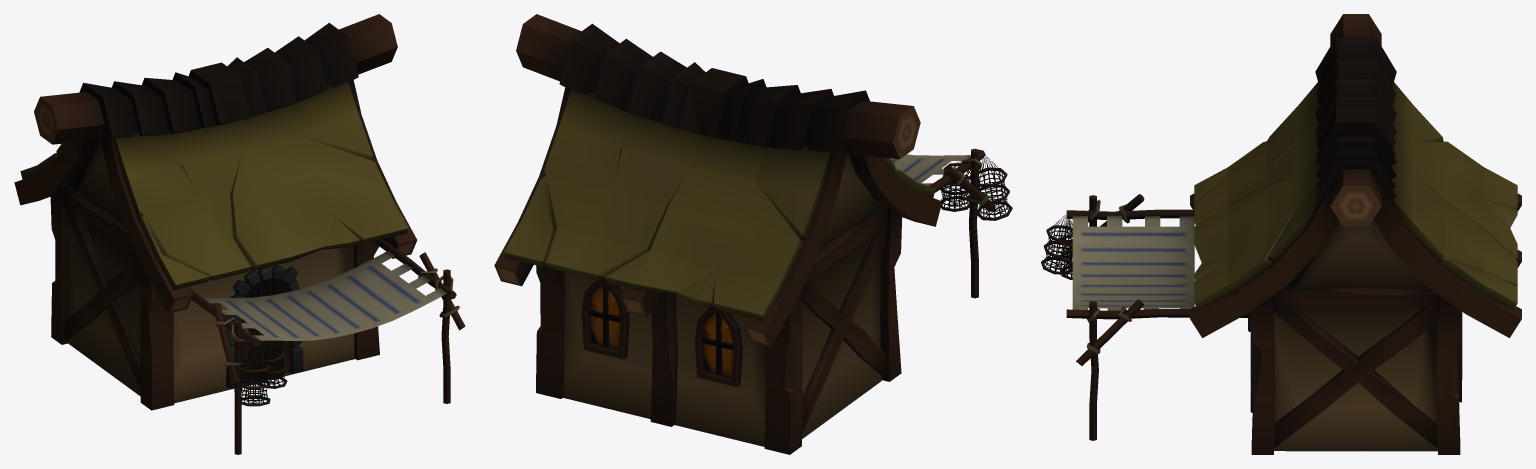
File: FishingHouse.fbx
3 views of the same model, side by side, from view 1: azimuth 30°, elevation 25°; view 2: azimuth 150°, elevation 25°; view 3: azimuth 270°, elevation 25° (orthographic). The views are drawn at different scales.
Visible parts, largest first — view 1: FishingHouse; view 2: FishingHouse; view 3: FishingHouse.
Part boxes in pixels (bbox=[...]): FishingHouse: bbox=[14, 14, 465, 454]; FishingHouse: bbox=[494, 14, 1012, 454]; FishingHouse: bbox=[1041, 14, 1521, 454].
Bounding box in the file's own units: 151 × 122 × 178.
